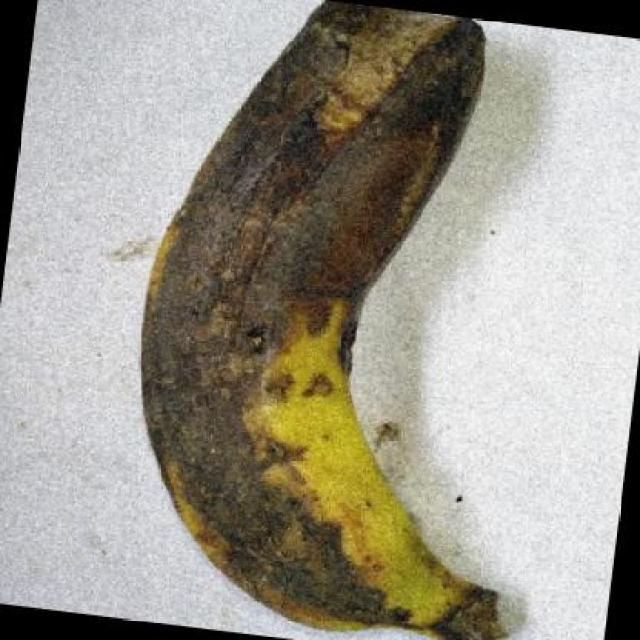Rotten: (115, 0, 566, 640)
